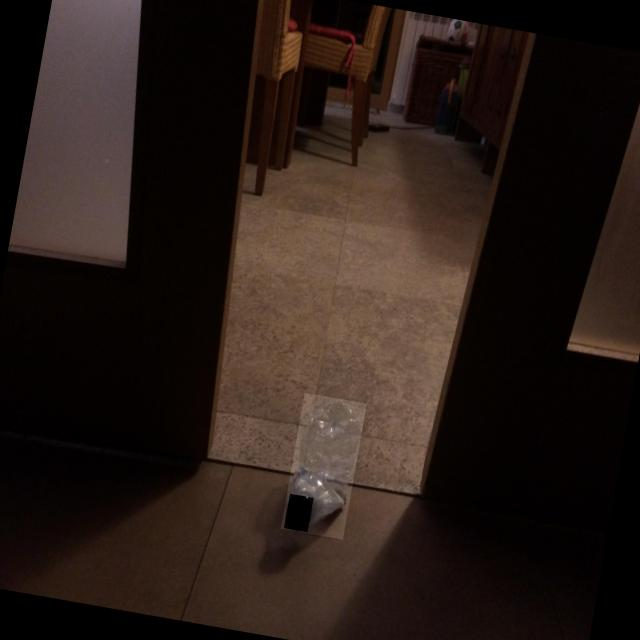Bottle cap: (286, 495, 311, 531)
Clear plastic bottle: (287, 398, 361, 532)
